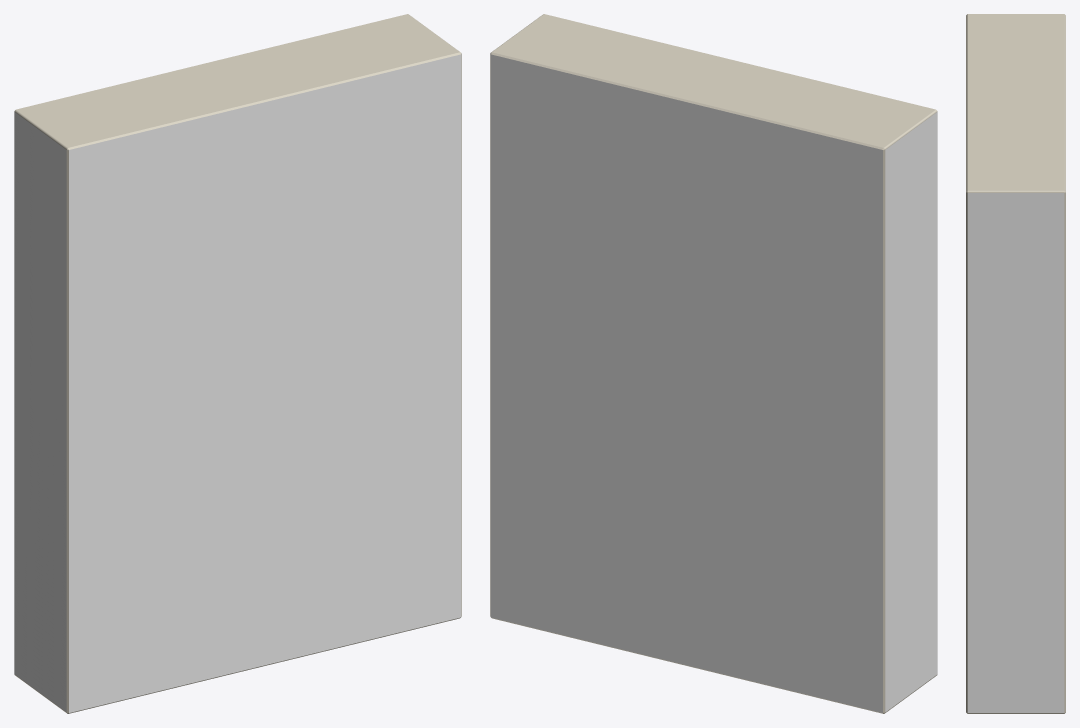
Rendered from cartridge_box.glb.
3 views of the same model, side by side, from view 1: azimuth 30°, elevation 25°; view 2: azimuth 150°, elevation 25°; view 3: azimuth 270°, elevation 25° (orthographic). The views are drawn at different scales.
Visible parts, largest first — view 1: box; view 2: box; view 3: box.
Boxes of the visible parts, left/top/right/bottom form: box: left=14, top=14, right=461, bottom=713; box: left=490, top=14, right=937, bottom=713; box: left=966, top=14, right=1065, bottom=713.
Size of the model in its own units: 0.7297 by 1 by 0.173.
